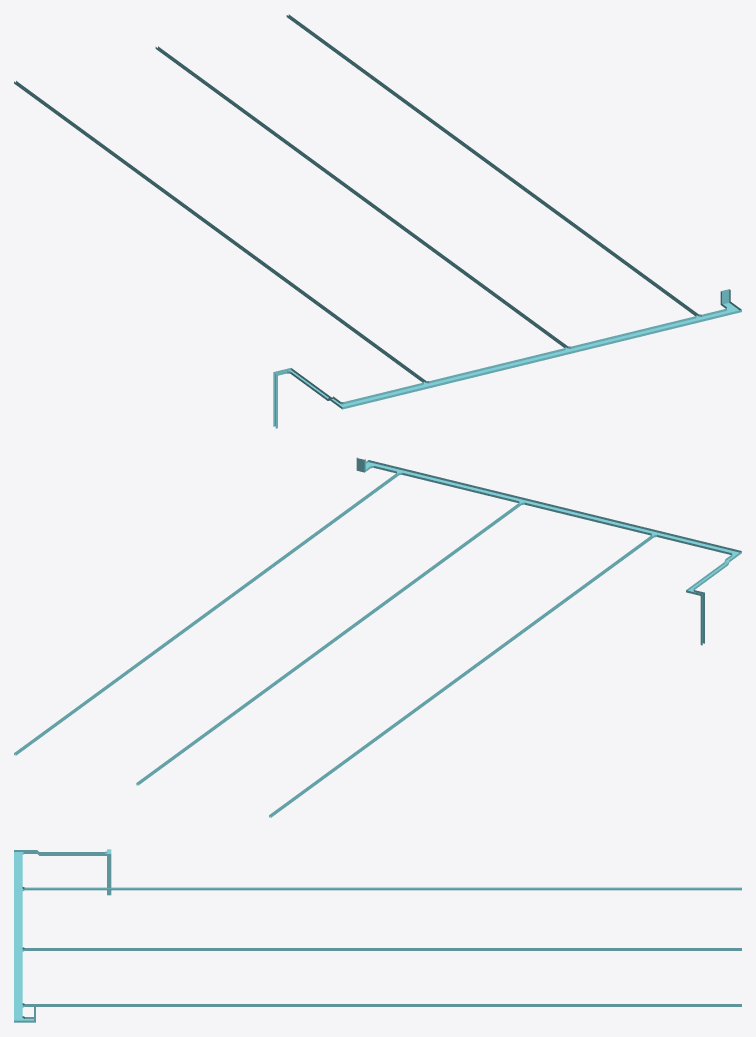
The picture shows the model from 3 angles, top to bottom: view 1: azimuth 30°, elevation 25°; view 2: azimuth 150°, elevation 25°; view 3: azimuth 270°, elevation 25°; orthographic projection. The views are drawn at different scales.
Parts seen in each view (by area): view 1: L1-S-37BFC, L1-S-37C46, L1-S-37C44, L1-S-37C3E, L1-S-37C3F; view 2: L1-S-37C46, L1-S-37C44, L1-S-37BFC, L1-S-37C3E, L1-S-37C3F; view 3: L1-S-37BFC, L1-S-37C46, L1-S-37C44, L1-S-37C3E, L1-S-37C3F.
Part boxes in pixels (bbox=[...]): L1-S-37BFC: bbox=[14, 81, 425, 382]; L1-S-37C46: bbox=[286, 14, 697, 315]; L1-S-37C44: bbox=[155, 46, 566, 347]; L1-S-37C3E: bbox=[434, 349, 565, 385]; L1-S-37C3F: bbox=[575, 317, 696, 351]; L1-S-37C46: bbox=[14, 473, 398, 755]; L1-S-37C44: bbox=[136, 503, 520, 785]; L1-S-37BFC: bbox=[269, 535, 653, 817]; L1-S-37C3E: bbox=[529, 500, 651, 534]; L1-S-37C3F: bbox=[406, 470, 519, 502]; L1-S-37BFC: bbox=[26, 887, 741, 890]; L1-S-37C46: bbox=[26, 1004, 741, 1006]; L1-S-37C44: bbox=[26, 948, 741, 950]; L1-S-37C3E: bbox=[14, 893, 22, 947]; L1-S-37C3F: bbox=[14, 953, 22, 1002].
Bounding box in the file's own units: 37.89 × 6 × 66.11.
